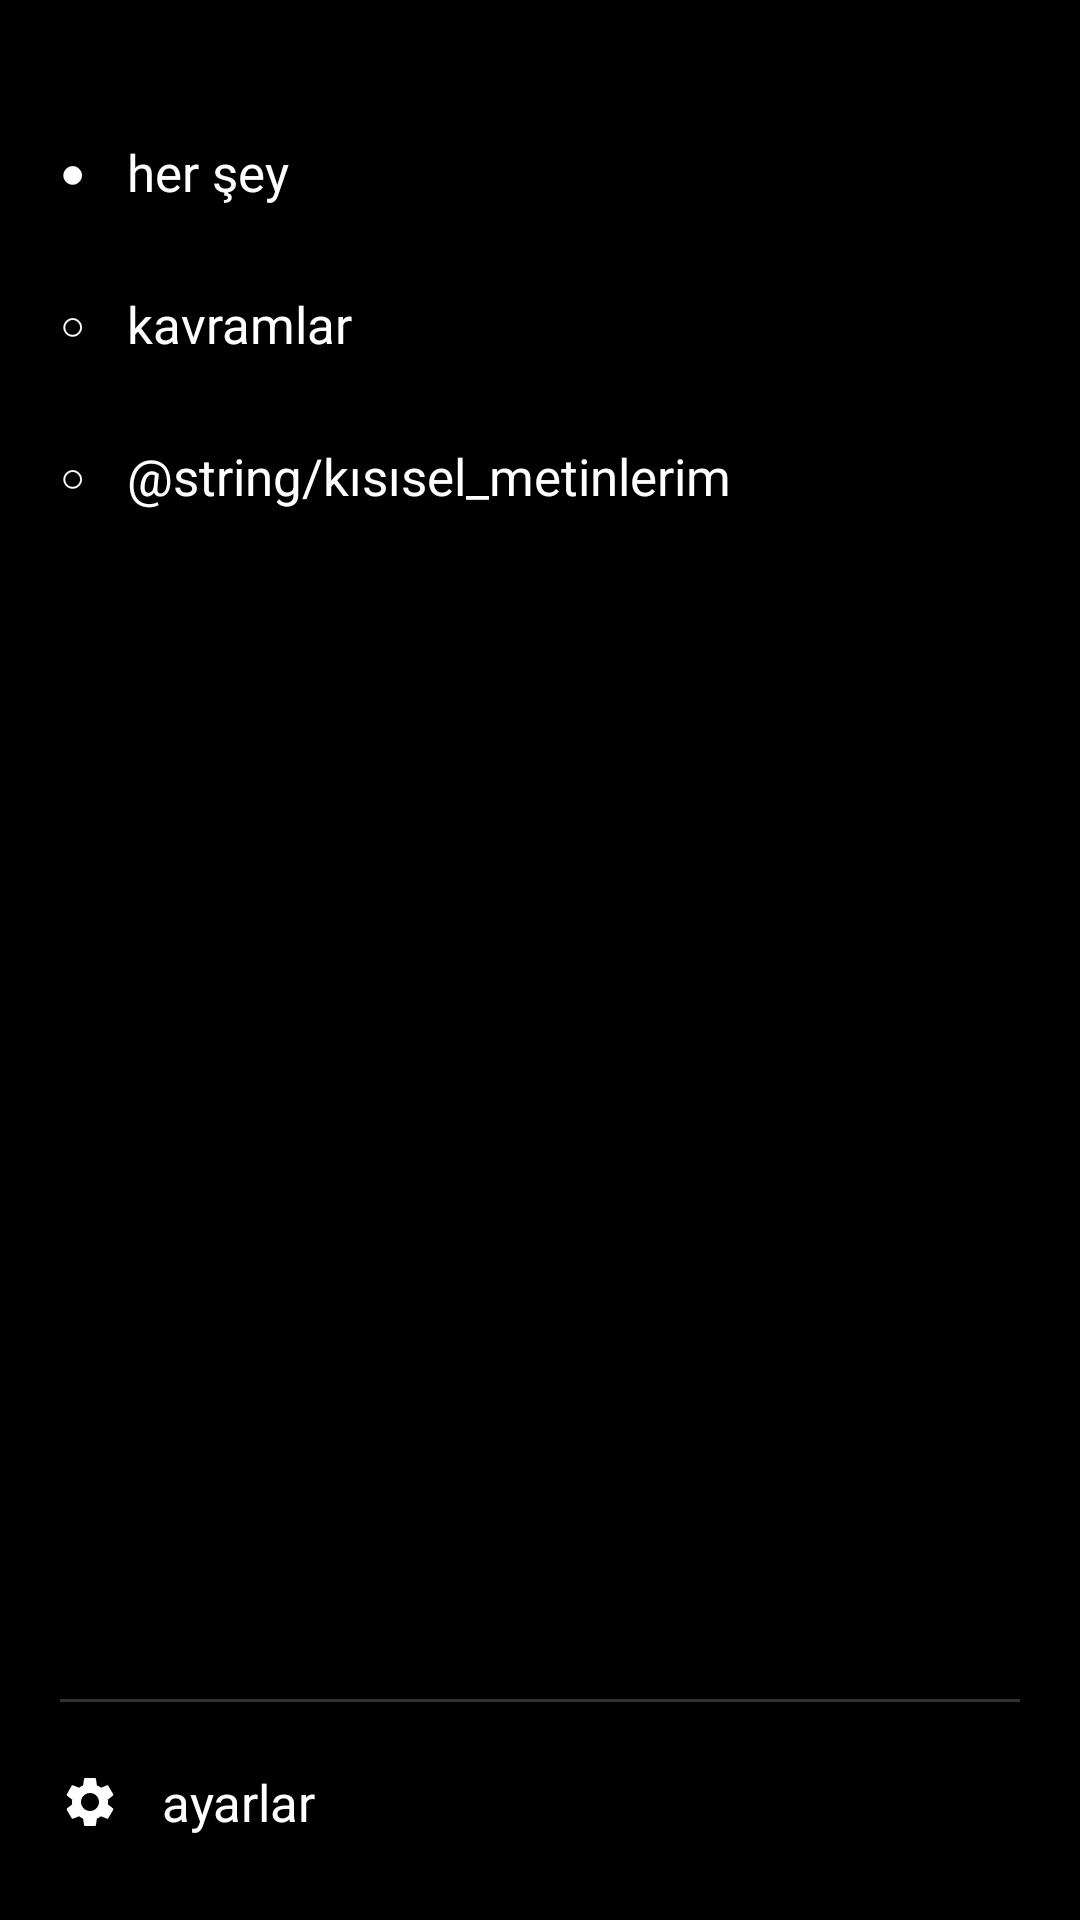

Icons on this 1080*1920 Android screen, each with the point to tap as point (x, y):
settings: point (90, 1802)
